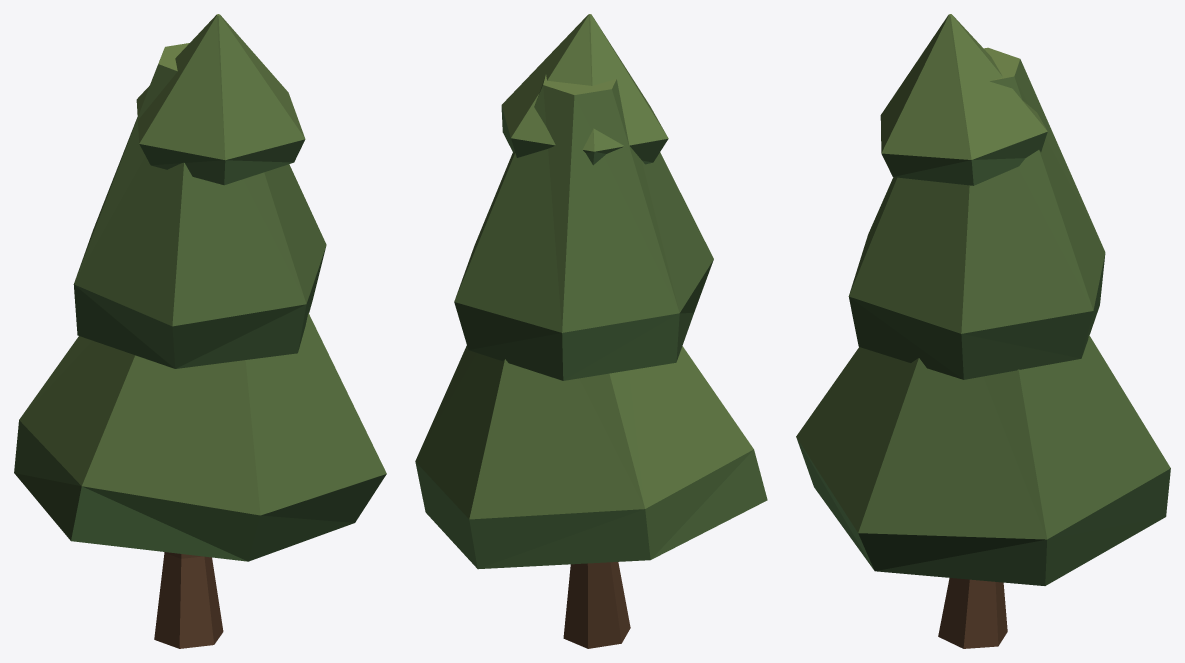
File: pine-small.glb
3 renders of one model, left to right at view 1: azimuth 30°, elevation 25°; view 2: azimuth 150°, elevation 25°; view 3: azimuth 270°, elevation 25°, orthographic. The views are drawn at different scales.
Visible parts, largest first — view 1: pine-small; view 2: pine-small; view 3: pine-small.
Part boxes in pixels (left/top/right/bottom): pine-small: left=14, top=14, right=386, bottom=648; pine-small: left=415, top=14, right=767, bottom=648; pine-small: left=796, top=14, right=1170, bottom=648.
Bounding box in the file's own units: 1.87 × 3.76 × 2.03.
